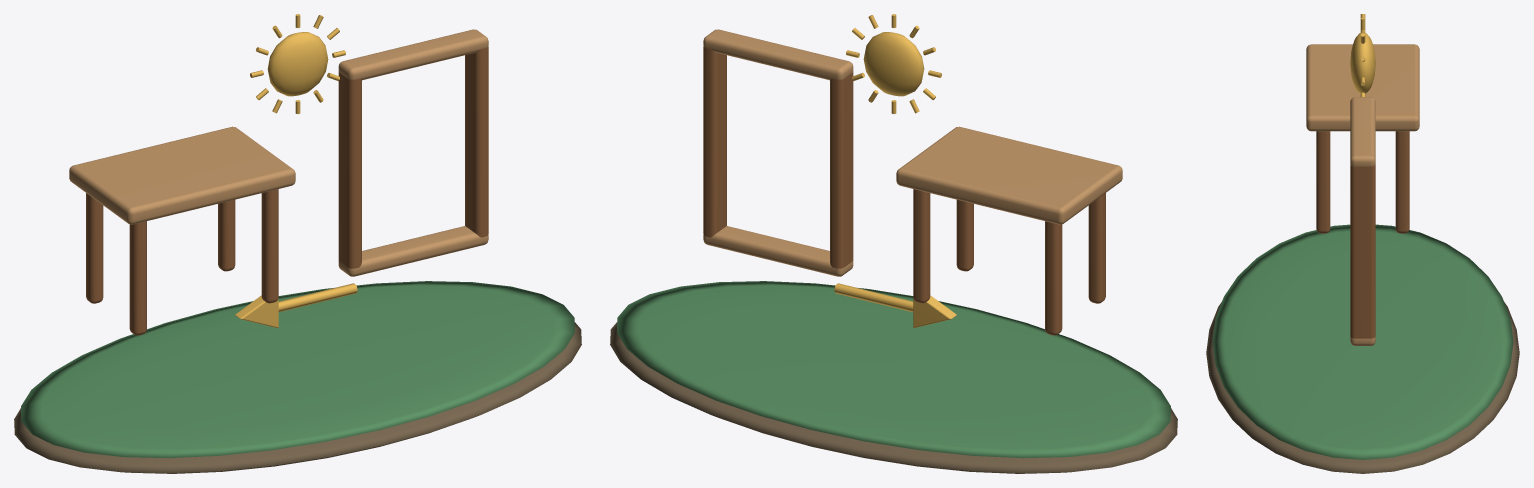
File: complete-first-west-enclosed-stool.glb
3 renders of one model, left to right at view 1: azimuth 30°, elevation 25°; view 2: azimuth 150°, elevation 25°; view 3: azimuth 270°, elevation 25°, orthographic. The views are drawn at different scales.
Parts seen in each view (by area): view 1: complete-first-west-enclosed-stool_surface_01, complete-first-west-enclosed-stool_surface_02, complete-first-west-enclosed-stool_surface_03, complete-first-west-enclosed-stool_surface_00, complete-first-west-enclosed-stool_surface_04; view 2: complete-first-west-enclosed-stool_surface_01, complete-first-west-enclosed-stool_surface_02, complete-first-west-enclosed-stool_surface_03, complete-first-west-enclosed-stool_surface_00, complete-first-west-enclosed-stool_surface_04; view 3: complete-first-west-enclosed-stool_surface_01, complete-first-west-enclosed-stool_surface_02, complete-first-west-enclosed-stool_surface_03, complete-first-west-enclosed-stool_surface_00, complete-first-west-enclosed-stool_surface_04.
Part boxes in pixels (x1,y1,x2,y2): complete-first-west-enclosed-stool_surface_01: [21, 281, 574, 458]; complete-first-west-enclosed-stool_surface_02: [69, 29, 488, 276]; complete-first-west-enclosed-stool_surface_03: [86, 46, 488, 335]; complete-first-west-enclosed-stool_surface_00: [14, 322, 581, 473]; complete-first-west-enclosed-stool_surface_04: [235, 14, 357, 327]; complete-first-west-enclosed-stool_surface_01: [617, 281, 1170, 458]; complete-first-west-enclosed-stool_surface_02: [703, 29, 1122, 276]; complete-first-west-enclosed-stool_surface_03: [703, 46, 1105, 335]; complete-first-west-enclosed-stool_surface_00: [610, 322, 1177, 473]; complete-first-west-enclosed-stool_surface_04: [834, 14, 956, 327]; complete-first-west-enclosed-stool_surface_01: [1212, 224, 1513, 459]; complete-first-west-enclosed-stool_surface_02: [1306, 44, 1419, 345]; complete-first-west-enclosed-stool_surface_03: [1316, 131, 1409, 338]; complete-first-west-enclosed-stool_surface_00: [1206, 302, 1519, 473]; complete-first-west-enclosed-stool_surface_04: [1350, 14, 1375, 96].
Bounding box in the file's own units: 4.56 × 3.07 × 2.5.
